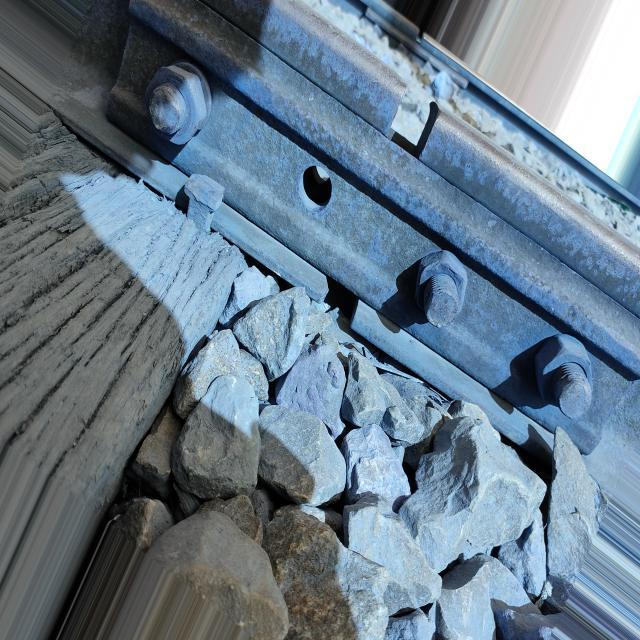Defective Joint: (62, 0, 640, 489)
